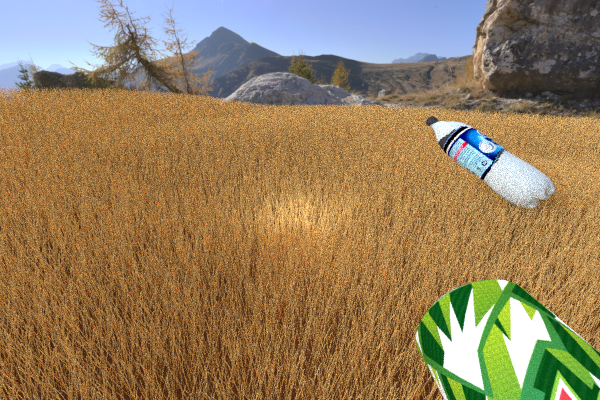bottle: (425, 115, 555, 209)
can: (416, 279, 600, 400)
